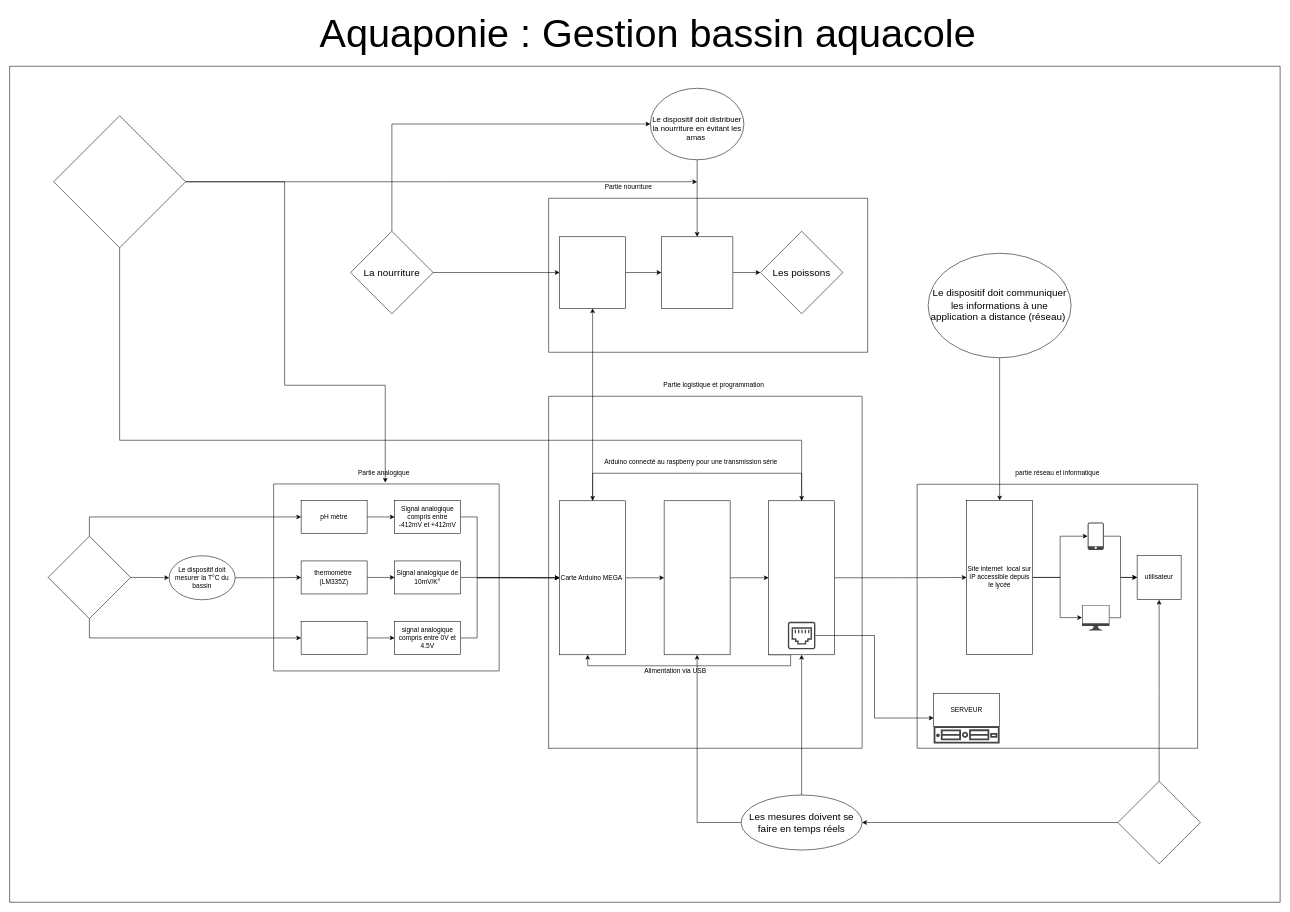
Some shapes in this 1290 by 912 pixel diagram are drawn without their labels. The shapes that lost their labels are listed below. From the top down, each one's box as (x1, y1, x2, y2) in pixels, then its label:
(53, 115, 186, 248): Alimentation
(559, 236, 626, 308): Signal provenant de l'Arduino périodiquement
(661, 236, 733, 308): Moteur distribuant la nourriture équitablement
(48, 536, 131, 619): Qualité de l'eau
(664, 500, 730, 655): Programme
(768, 500, 835, 655): Raspberry PI
(301, 621, 367, 654): capteur de turbidité (SEN0189)
(1117, 781, 1200, 864): Les humains
